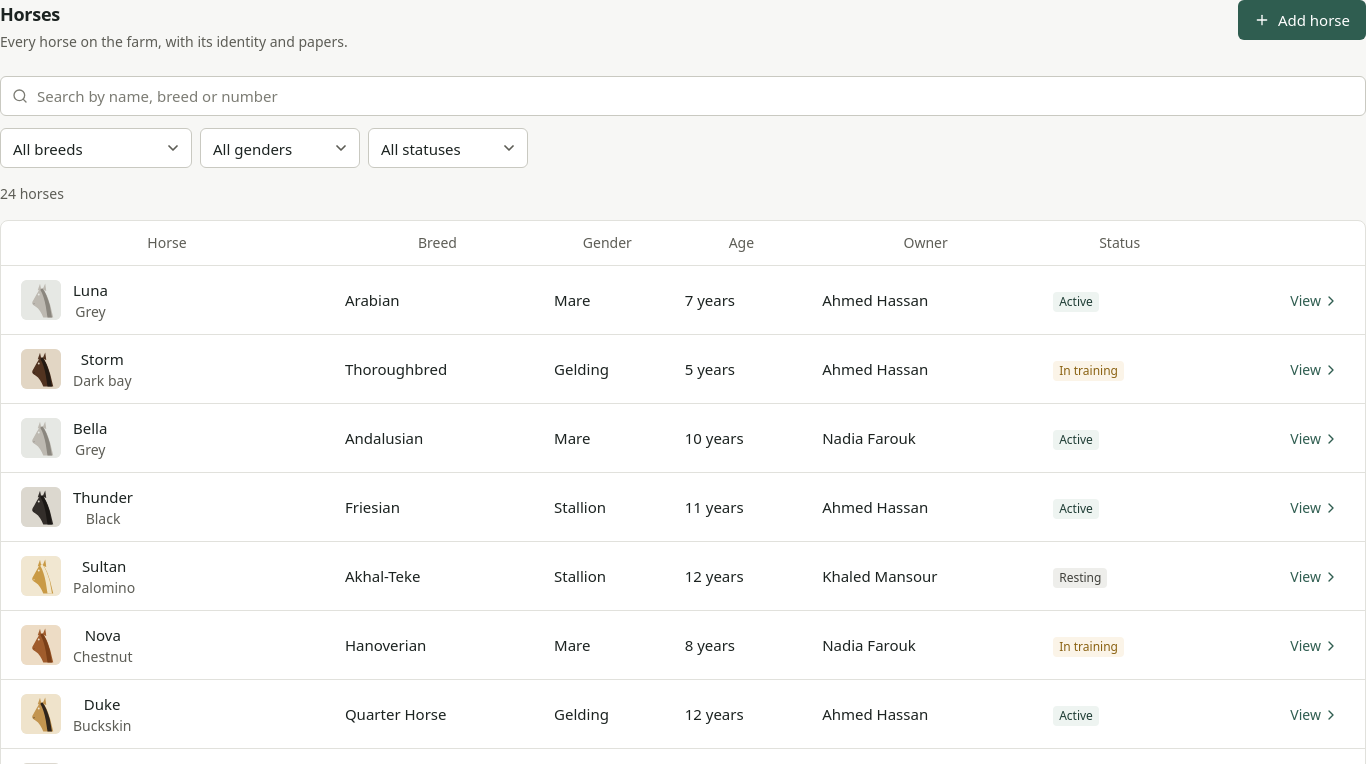
Test case: HorseListPage › shows a dedicated empty state when a search matches nothing
Type "no such horse anywhere" into the search field named "search horses" at (683, 96), box [0,76,1365,116]
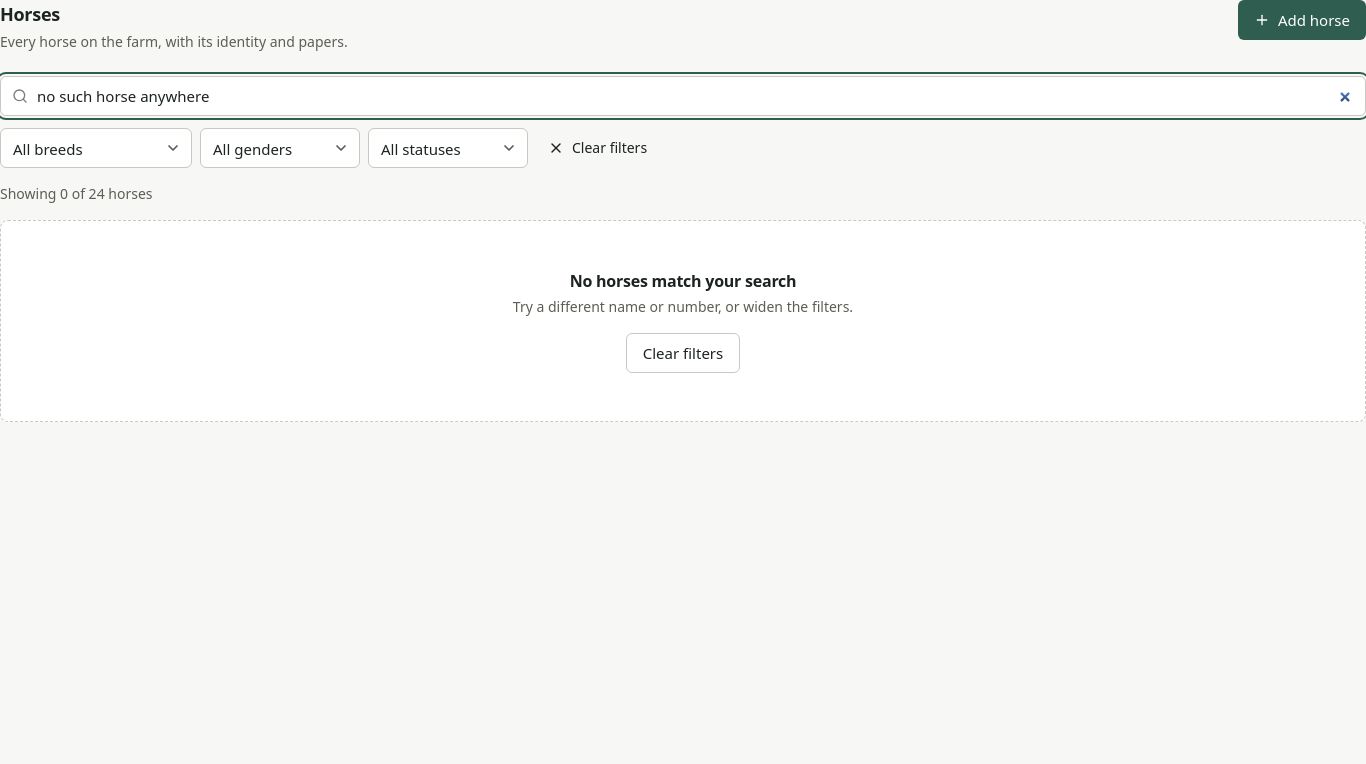
Expected: the heading "No horses match your search" is shown, [570,270,796,292]
Expected: the 1st button "Clear filters" is shown, [536,132,659,164]
